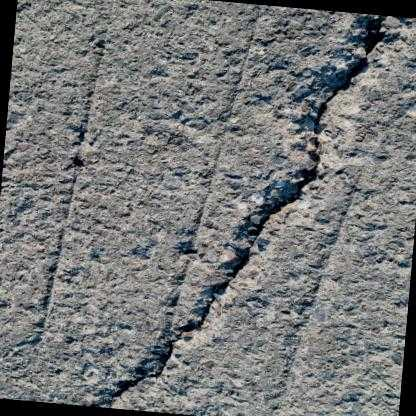crack: (102, 15, 390, 408)
